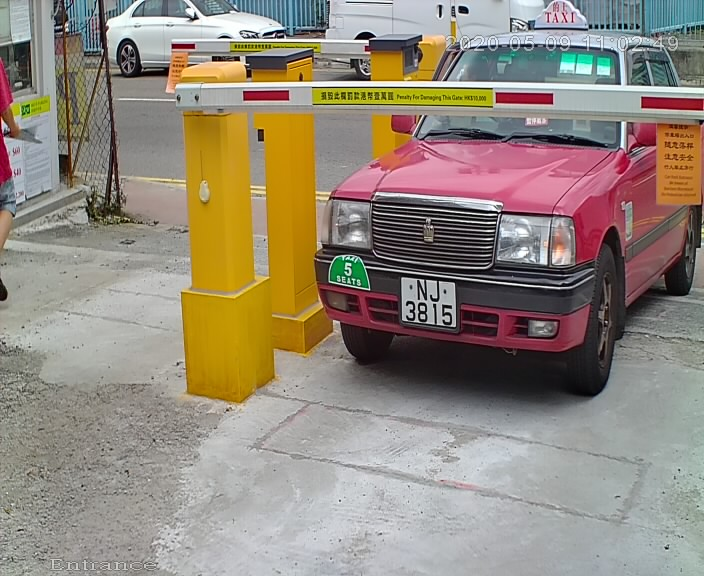taxi: (288, 2, 688, 391)
taxi_mark: (314, 241, 383, 303)
